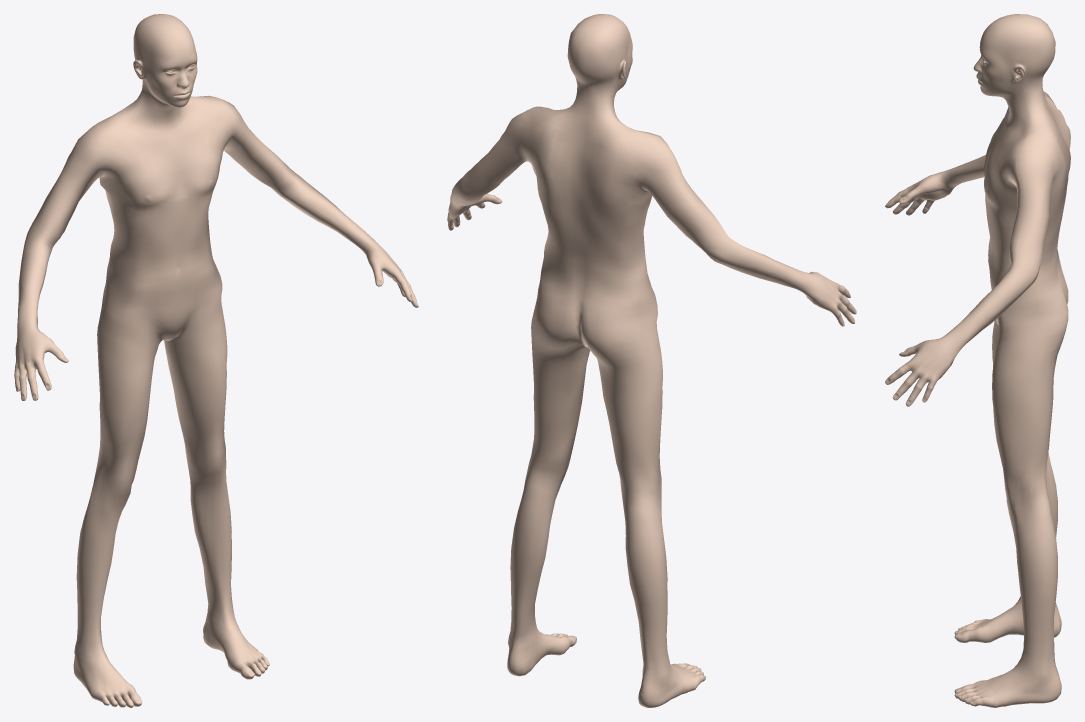
Rendered from omniro_human.glb.
The picture shows the model from 3 angles, left to right: view 1: azimuth 30°, elevation 25°; view 2: azimuth 150°, elevation 25°; view 3: azimuth 270°, elevation 25°; orthographic projection.
Visible parts, largest first — view 1: OmniroHuman; view 2: OmniroHuman; view 3: OmniroHuman.
Part boxes in pixels (x1,y1,x2,y2): OmniroHuman: [14, 14, 418, 707]; OmniroHuman: [447, 14, 856, 707]; OmniroHuman: [885, 14, 1070, 707].
Size of the model in its own units: 1.53 by 2.42 by 0.6238.
